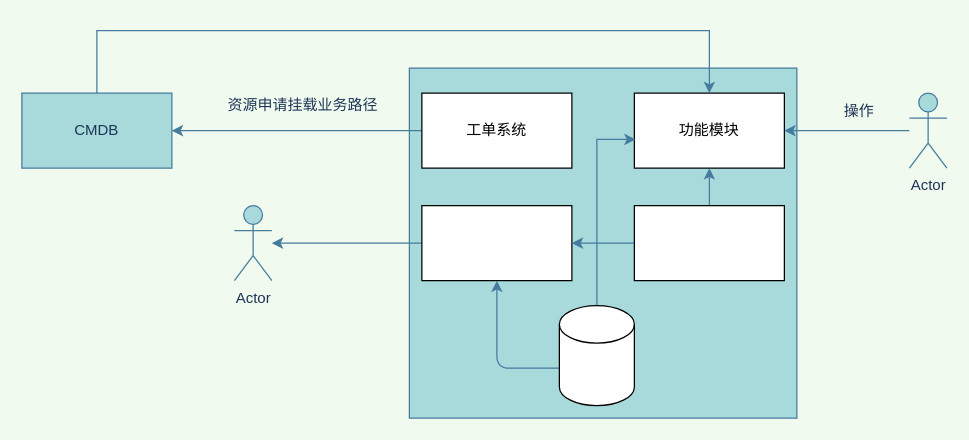
This 969x440 diagram has some shape labels left out. Each missing label, with the centre of its shape:
"对外接口" goes at [496,242].
"系统设置" goes at [708,242].
